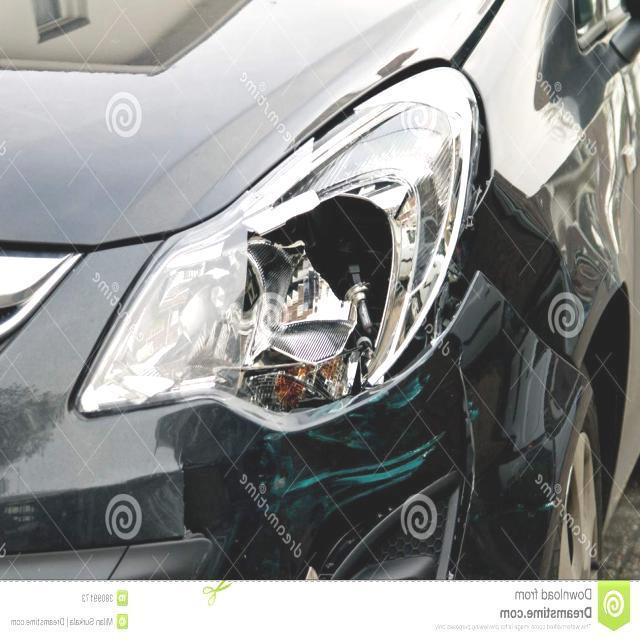minor: (274, 174, 591, 584)
moderate: (88, 69, 480, 410)
